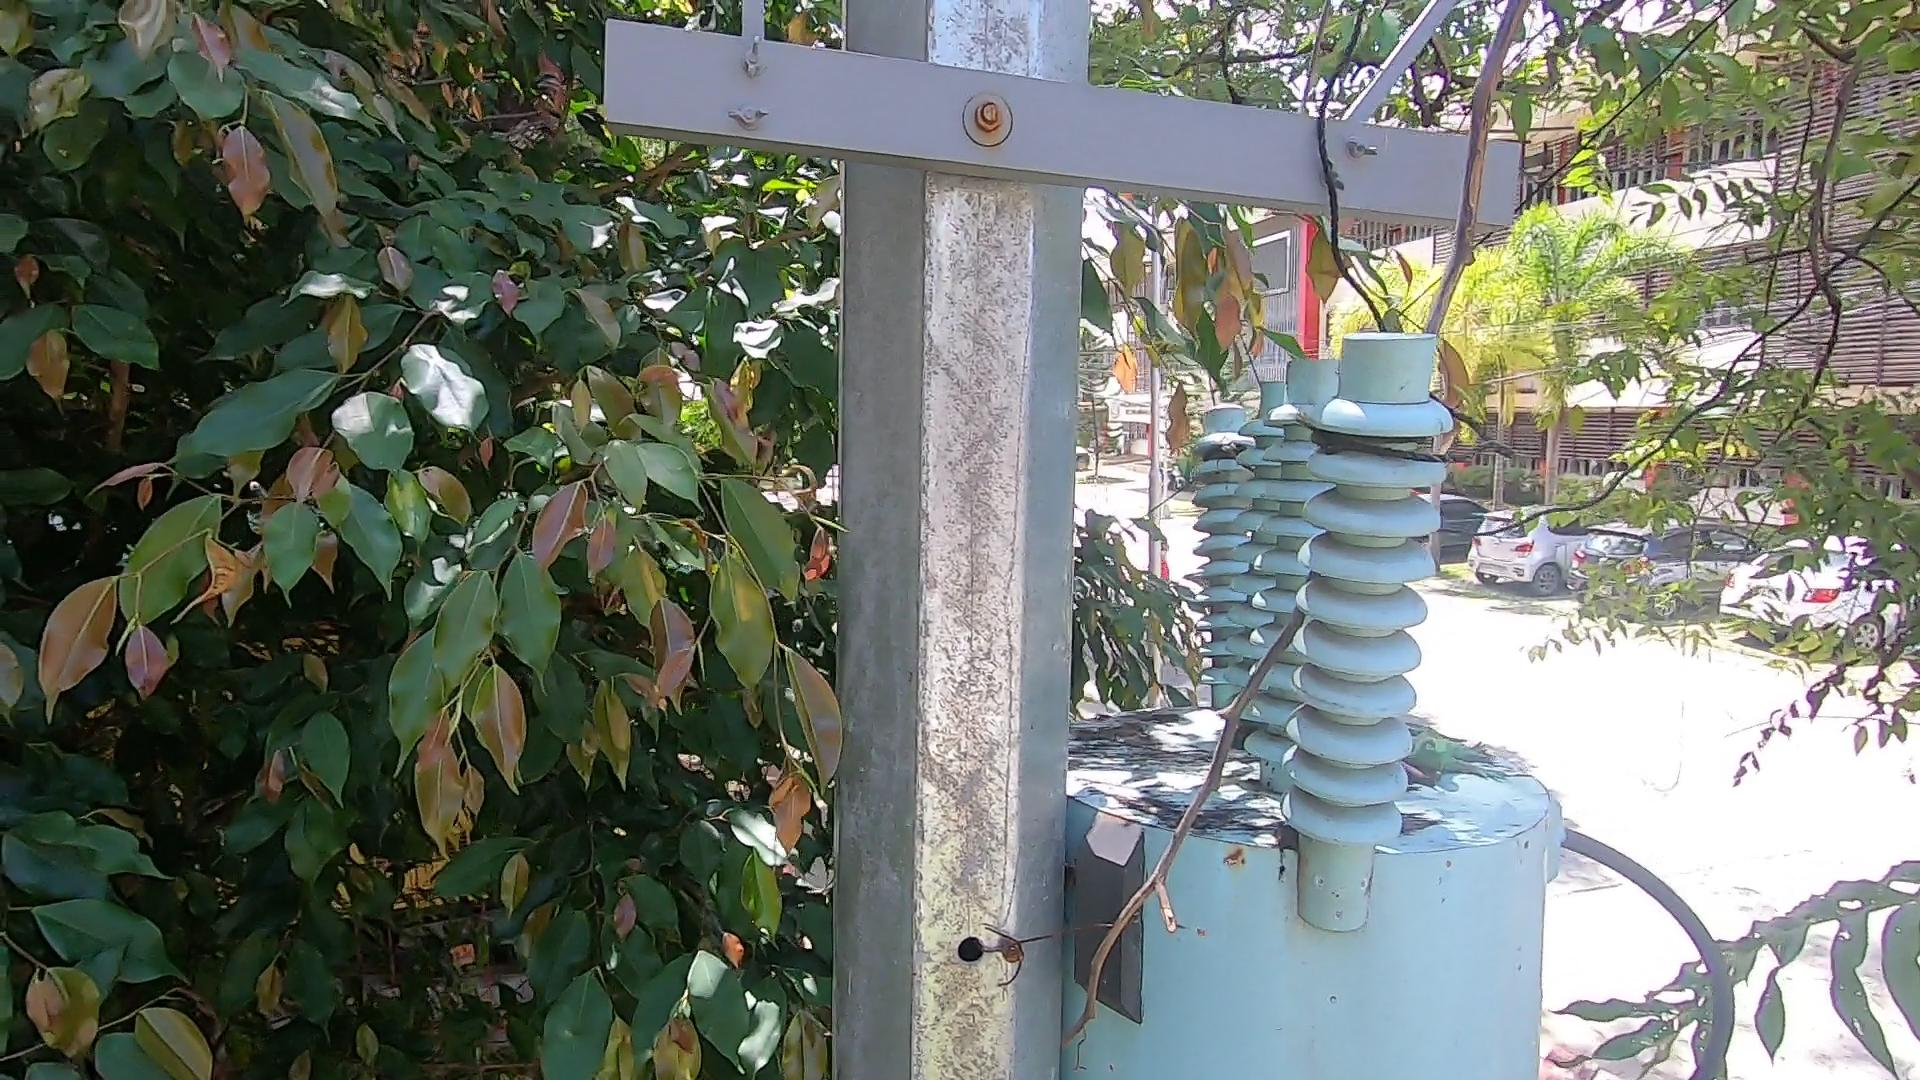branch with leaves: (1104, 233, 1338, 435)
leaf: (1418, 741, 1501, 785), (1091, 712, 1179, 753), (1258, 812, 1315, 868)
tree branch: (1029, 3, 1536, 1036)
